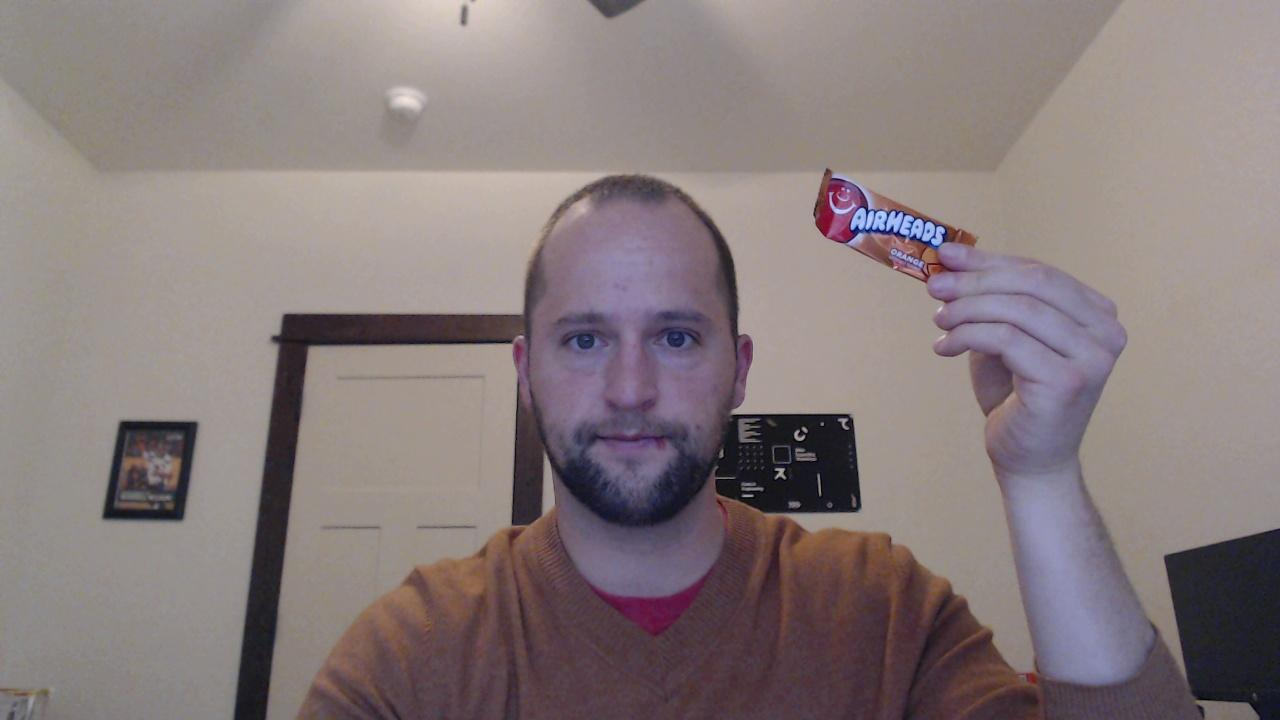milky_way: (817, 170, 977, 286)
